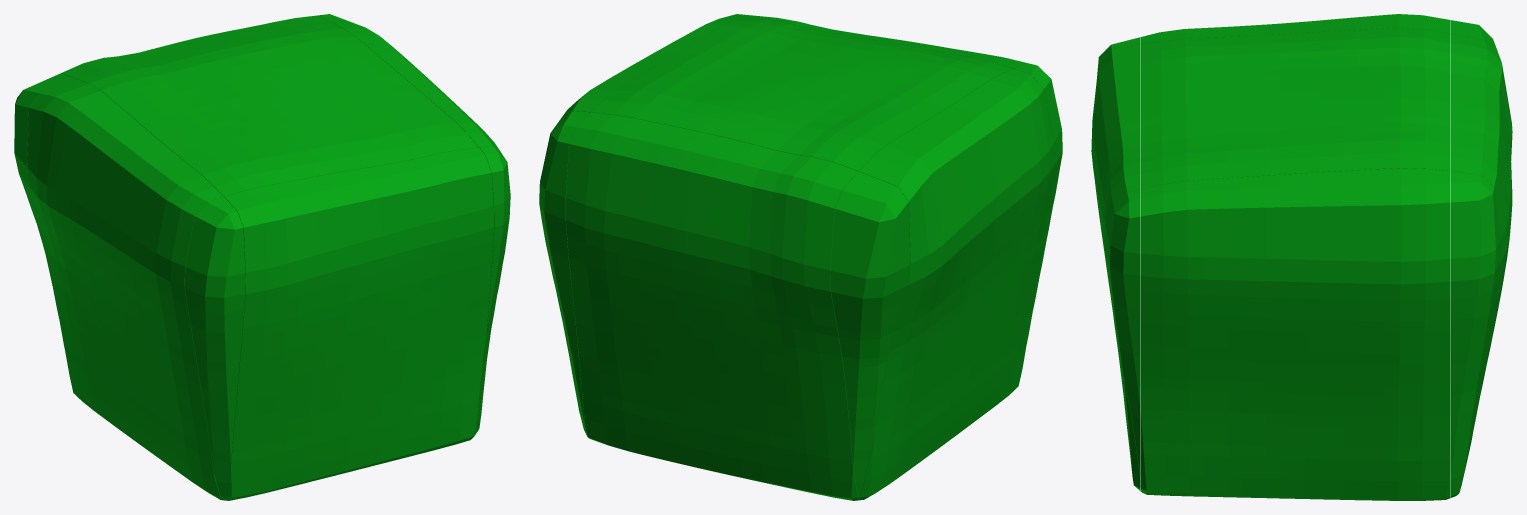
Rendered from 4by10beveledsubdivided.027.fbx.
3 views of the same model, side by side, from view 1: azimuth 30°, elevation 25°; view 2: azimuth 150°, elevation 25°; view 3: azimuth 270°, elevation 25° (orthographic). The views are drawn at different scales.
Visible parts, largest first — view 1: 4by10beveledsubdivided.027; view 2: 4by10beveledsubdivided.027; view 3: 4by10beveledsubdivided.027.
Part boxes in pixels (left/top/right/bottom): 4by10beveledsubdivided.027: left=14, top=14, right=510, bottom=500; 4by10beveledsubdivided.027: left=539, top=14, right=1062, bottom=500; 4by10beveledsubdivided.027: left=1091, top=14, right=1512, bottom=500.
Bounding box in the file's own units: 279 × 243 × 271.
